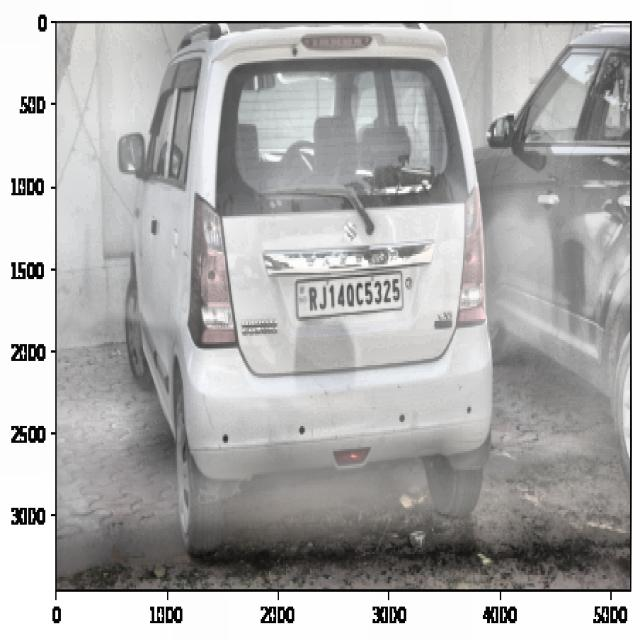license_plate: (303, 273, 406, 313)
